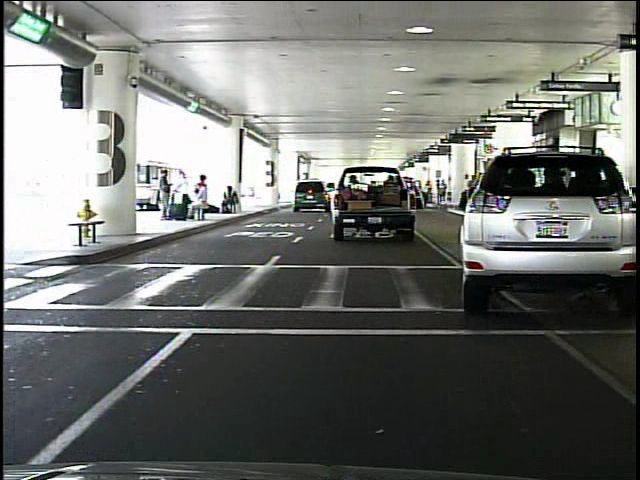person: (156, 167, 176, 219)
